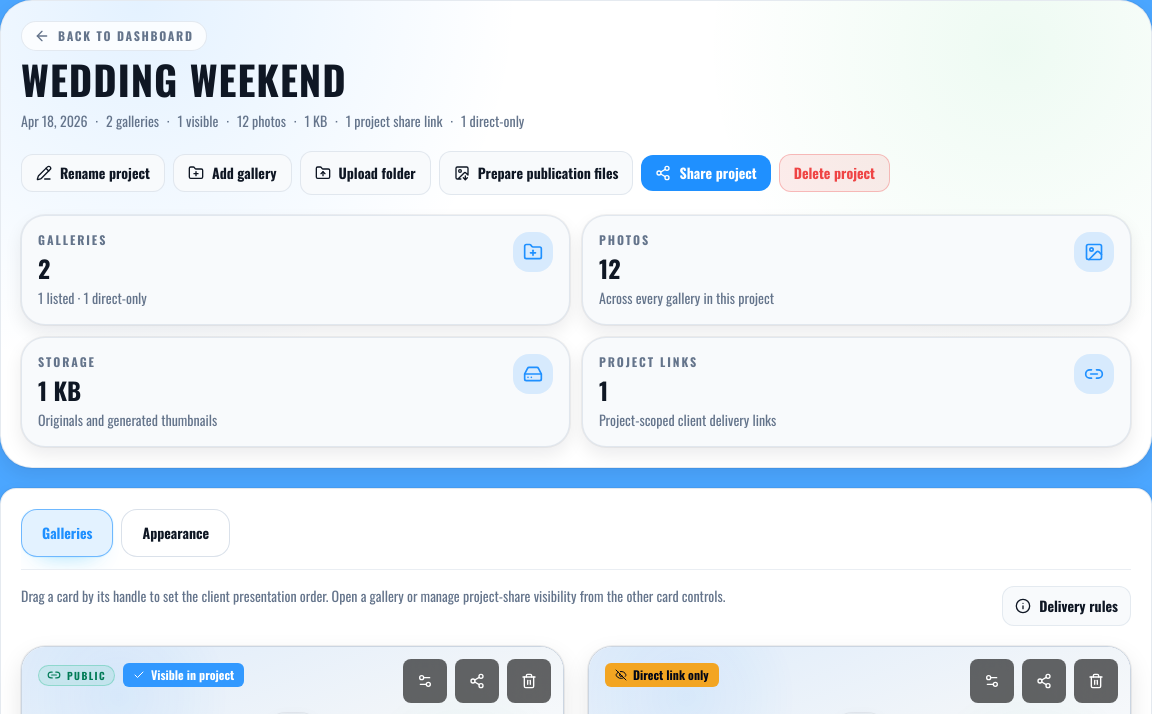
ProjectPage › preserves other publication 404 errors: Project not found
This screenshot has width=1152, height=714.
Expected: the heading "Wedding Weekend" is shown, [21,49,347,109]
Click the button "Prepare publication files" at (536, 173), box [439,151,633,195]
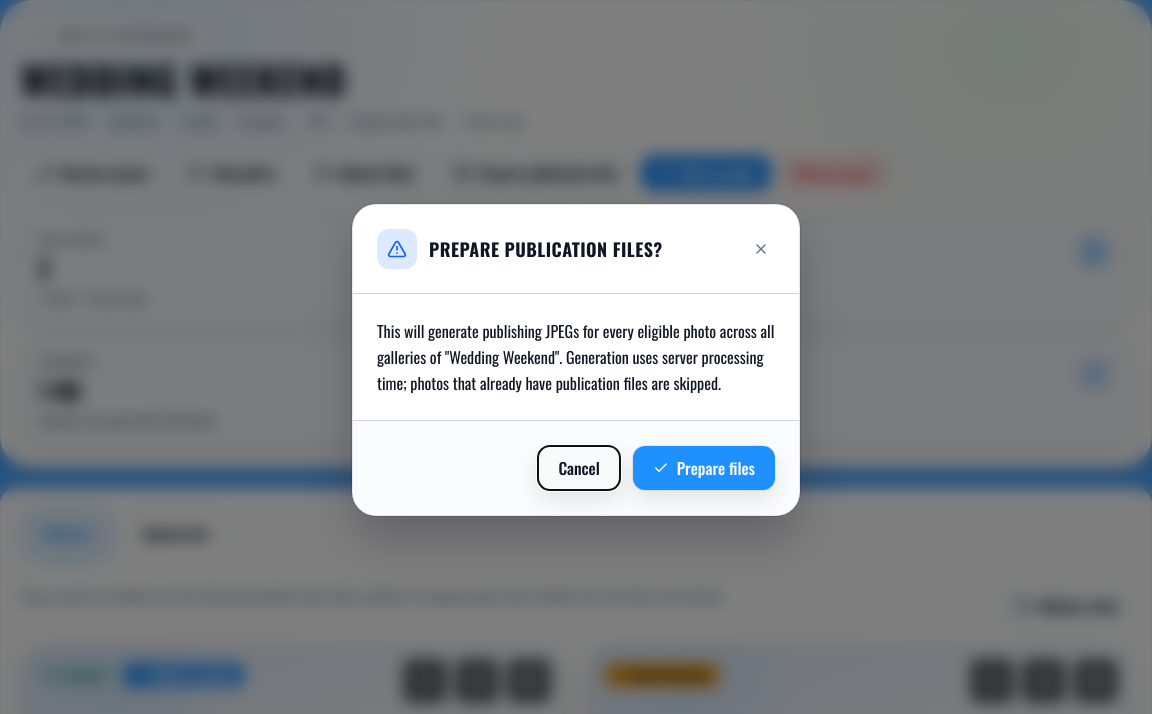
Click the button "Prepare files" at (704, 468), box [633,446,775,490]
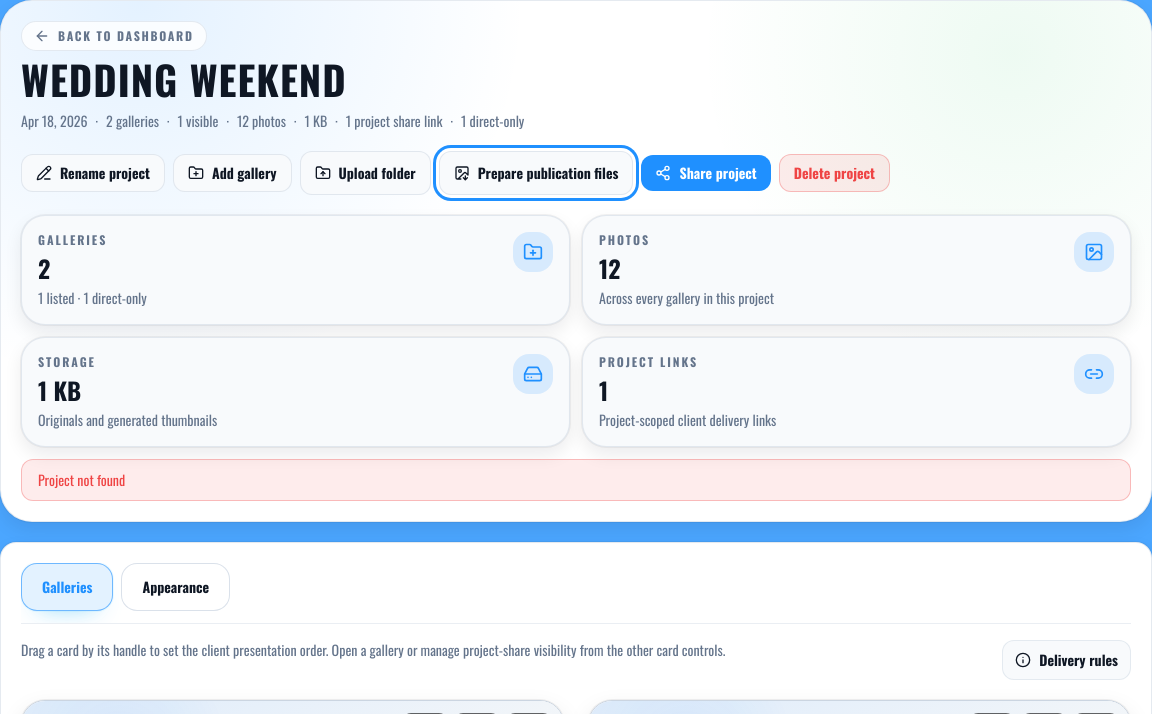
Expected: the button "Prepare publication files" is enabled, [439,151,633,195]
Expected: the text "Project not found" is shown, [21,459,1131,501]
